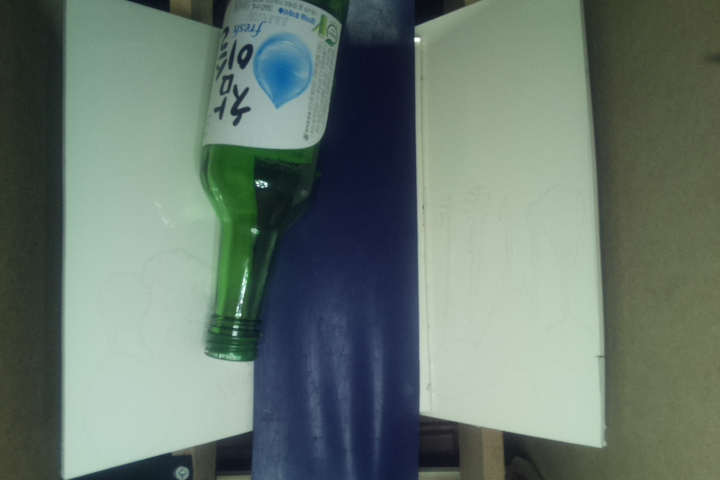soju: (183, 1, 355, 365)
